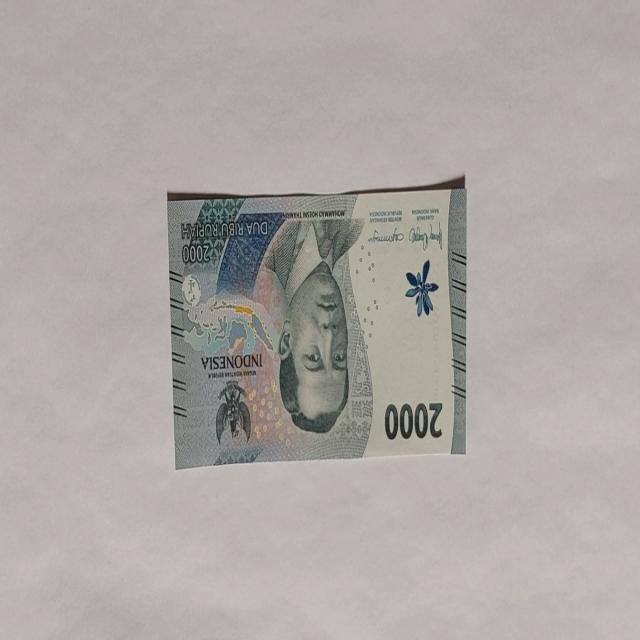dua ribu rupiah: (168, 183, 466, 468), (260, 218, 366, 439)
